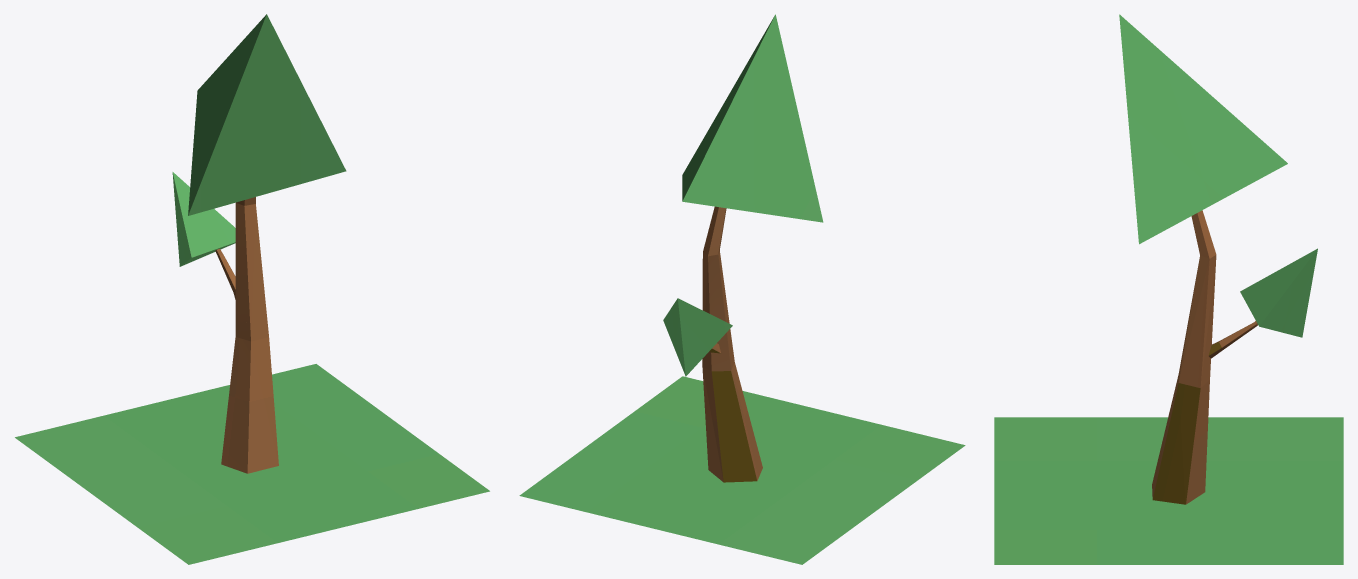
File: tree_2.glb
3 renders of one model, left to right at view 1: azimuth 30°, elevation 25°; view 2: azimuth 150°, elevation 25°; view 3: azimuth 270°, elevation 25°, orthographic. The views are drawn at different scales.
Visible parts, largest first — view 1: Plane.001; view 2: Plane.001; view 3: Plane.001.
Boxes of the visible parts, x1=… form: Plane.001: x1=15, y1=14, x2=489, y2=564; Plane.001: x1=519, y1=14, x2=965, y2=564; Plane.001: x1=994, y1=14, x2=1343, y2=564.
Size of the model in its own units: 4 by 6 by 4.
2 materials, 2 textured.
